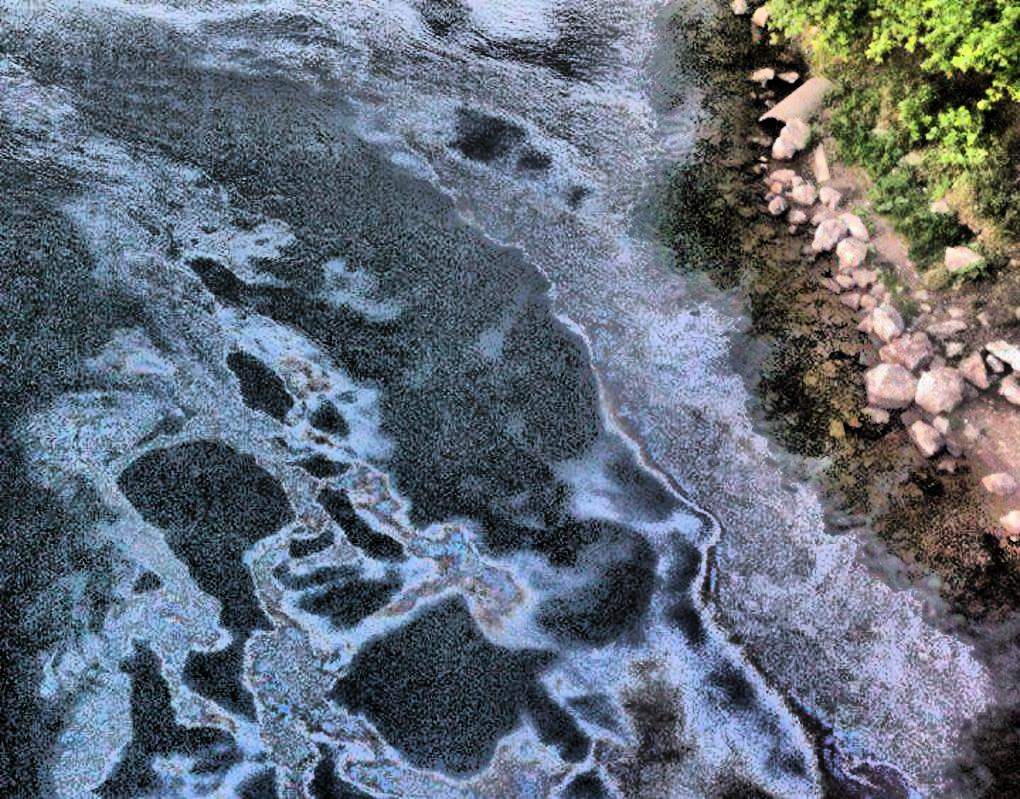sheen: (103, 1, 1002, 797), (0, 48, 576, 797), (543, 528, 821, 796)
